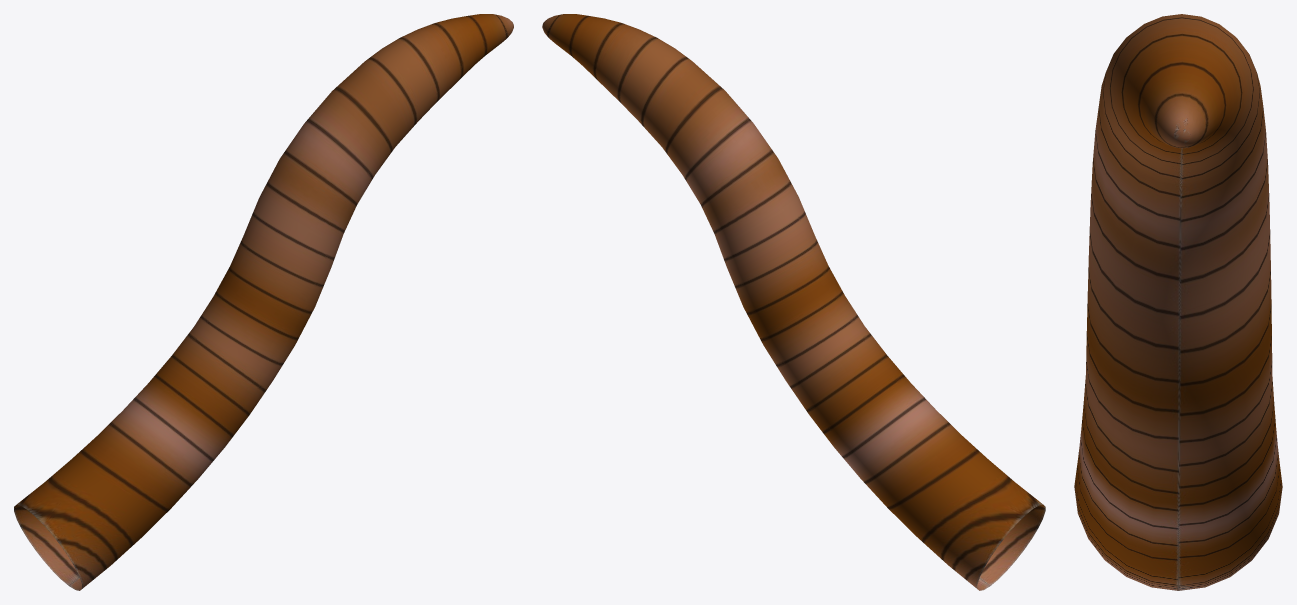
The model's file is WormGL.gltf.
3 views of the same model, side by side, from view 1: azimuth 30°, elevation 25°; view 2: azimuth 150°, elevation 25°; view 3: azimuth 270°, elevation 25° (orthographic). The views are drawn at different scales.
Parts seen in each view (by area): view 1: Worm; view 2: Worm; view 3: Worm.
Part boxes in pixels (<box>): Worm: <box>14,14,513,590</box>; Worm: <box>542,14,1045,590</box>; Worm: <box>1074,14,1282,590</box>.
Bounding box in the file's own units: 13.53 × 12.48 × 2.59.
Materials: 1 (1 with a texture image).
